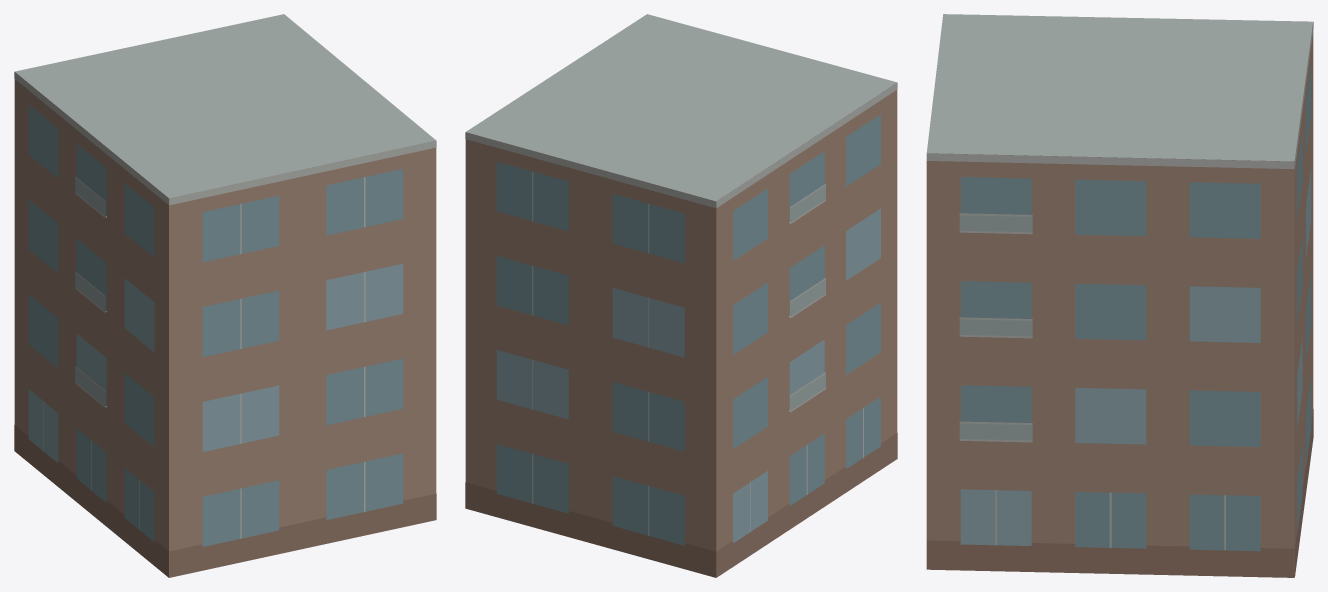
The model's file is survey-upis-32988929.glb.
3 renders of one model, left to right at view 1: azimuth 30°, elevation 25°; view 2: azimuth 150°, elevation 25°; view 3: azimuth 270°, elevation 25°, orthographic. The views are drawn at different scales.
Visible parts, largest first — view 1: survey-upis-32988929.tmp; view 2: survey-upis-32988929.tmp; view 3: survey-upis-32988929.tmp.
Part boxes in pixels (<box>): survey-upis-32988929.tmp: <box>14,14,436,577</box>; survey-upis-32988929.tmp: <box>465,14,897,577</box>; survey-upis-32988929.tmp: <box>926,14,1313,577</box>.
Size of the model in its own units: 10.03 by 13.2 by 11.12.
